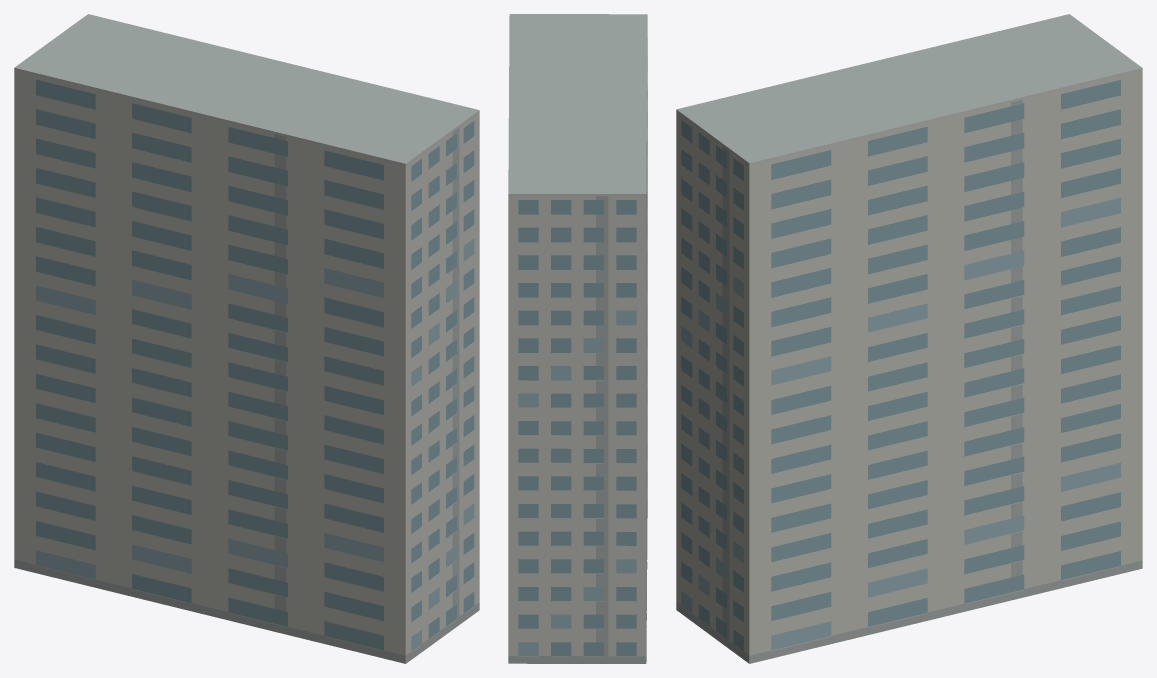
Rendered from residential-89ae3f12-61b7-4ef9-8129-cd3ee2d75bdf.glb.
3 views of the same model, side by side, from view 1: azimuth 30°, elevation 25°; view 2: azimuth 150°, elevation 25°; view 3: azimuth 270°, elevation 25° (orthographic). The views are drawn at different scales.
Visible parts, largest first — view 1: residential-89ae3f12-61b7-4ef9-8129-cd3ee2d75bdf.tmp; view 2: residential-89ae3f12-61b7-4ef9-8129-cd3ee2d75bdf.tmp; view 3: residential-89ae3f12-61b7-4ef9-8129-cd3ee2d75bdf.tmp.
Part boxes in pixels (bbox=[...]): residential-89ae3f12-61b7-4ef9-8129-cd3ee2d75bdf.tmp: bbox=[14, 14, 479, 663]; residential-89ae3f12-61b7-4ef9-8129-cd3ee2d75bdf.tmp: bbox=[508, 14, 647, 663]; residential-89ae3f12-61b7-4ef9-8129-cd3ee2d75bdf.tmp: bbox=[676, 14, 1142, 663].
Bounding box in the file's own units: 31.35 × 49 × 41.38.
